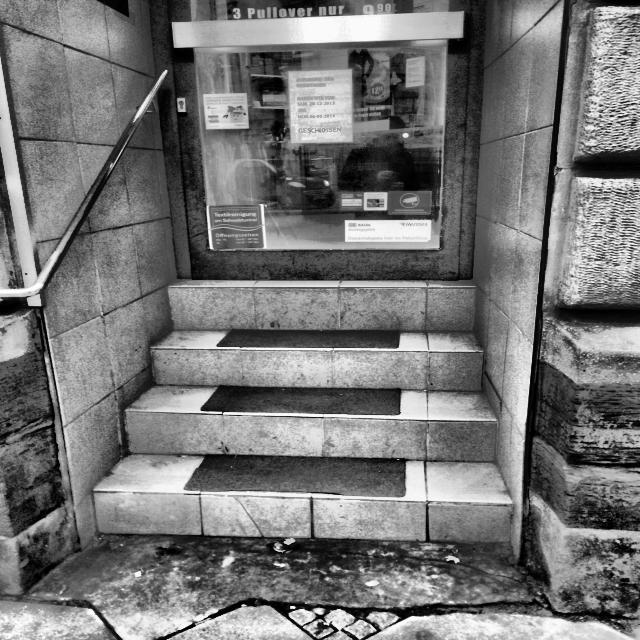escada: (69, 277, 514, 544)
